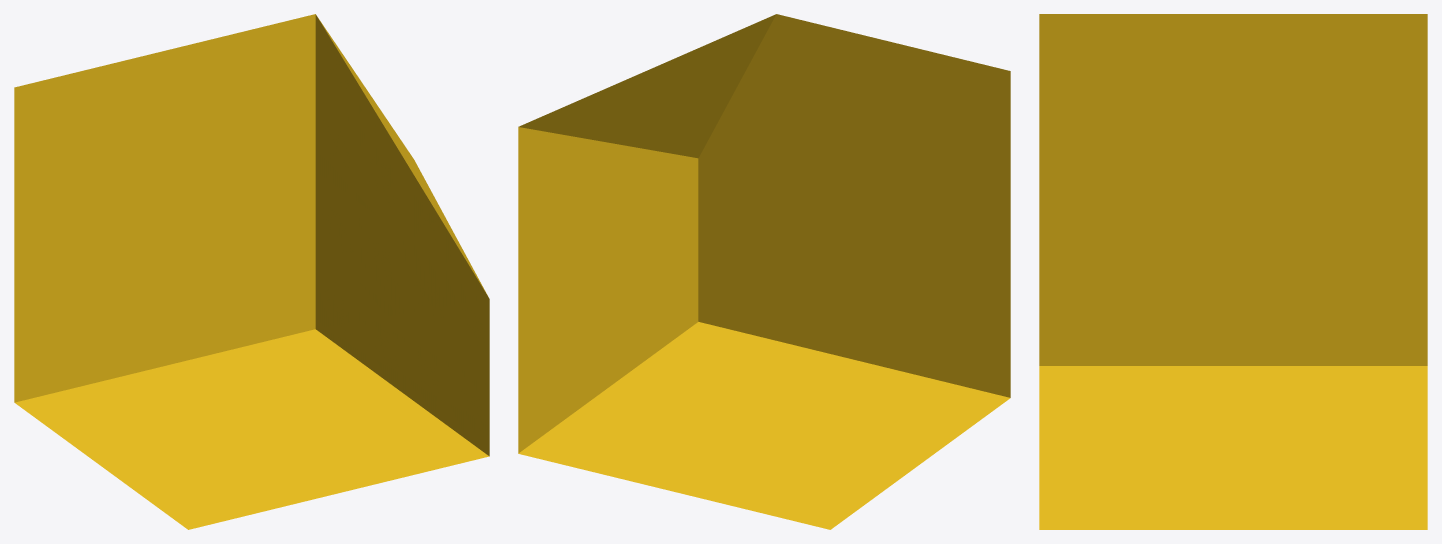
File: r5c4_border_yellow.gltf
3 views of the same model, side by side, from view 1: azimuth 30°, elevation 25°; view 2: azimuth 150°, elevation 25°; view 3: azimuth 270°, elevation 25° (orthographic). The views are drawn at different scales.
Visible parts, largest first — view 1: r5c4_border_yellow; view 2: r5c4_border_yellow; view 3: r5c4_border_yellow.
Part boxes in pixels (left/top/right/bottom): r5c4_border_yellow: left=14, top=14, right=489, bottom=529; r5c4_border_yellow: left=518, top=14, right=1010, bottom=529; r5c4_border_yellow: left=1039, top=14, right=1427, bottom=529.
Bounding box in the file's own units: 2.1 × 2.1 × 2.1.
1 material, 1 textured.
